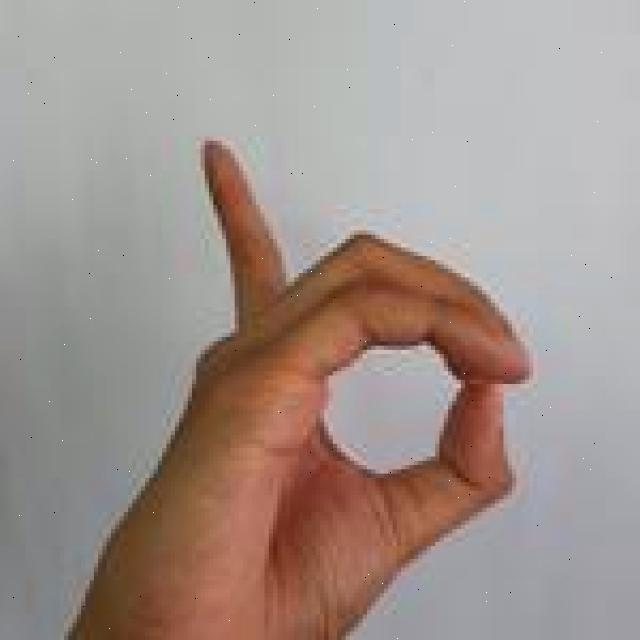D: (69, 134, 534, 640)
